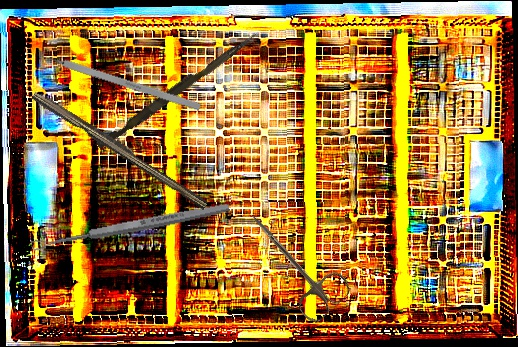Hook Surgical: (31, 49, 201, 111)
Iris Scissors: (230, 198, 355, 327)
Pusher: (95, 25, 260, 154)
Scalpel Handle: (29, 87, 212, 211)
Surgical Spoon: (30, 200, 231, 253)
